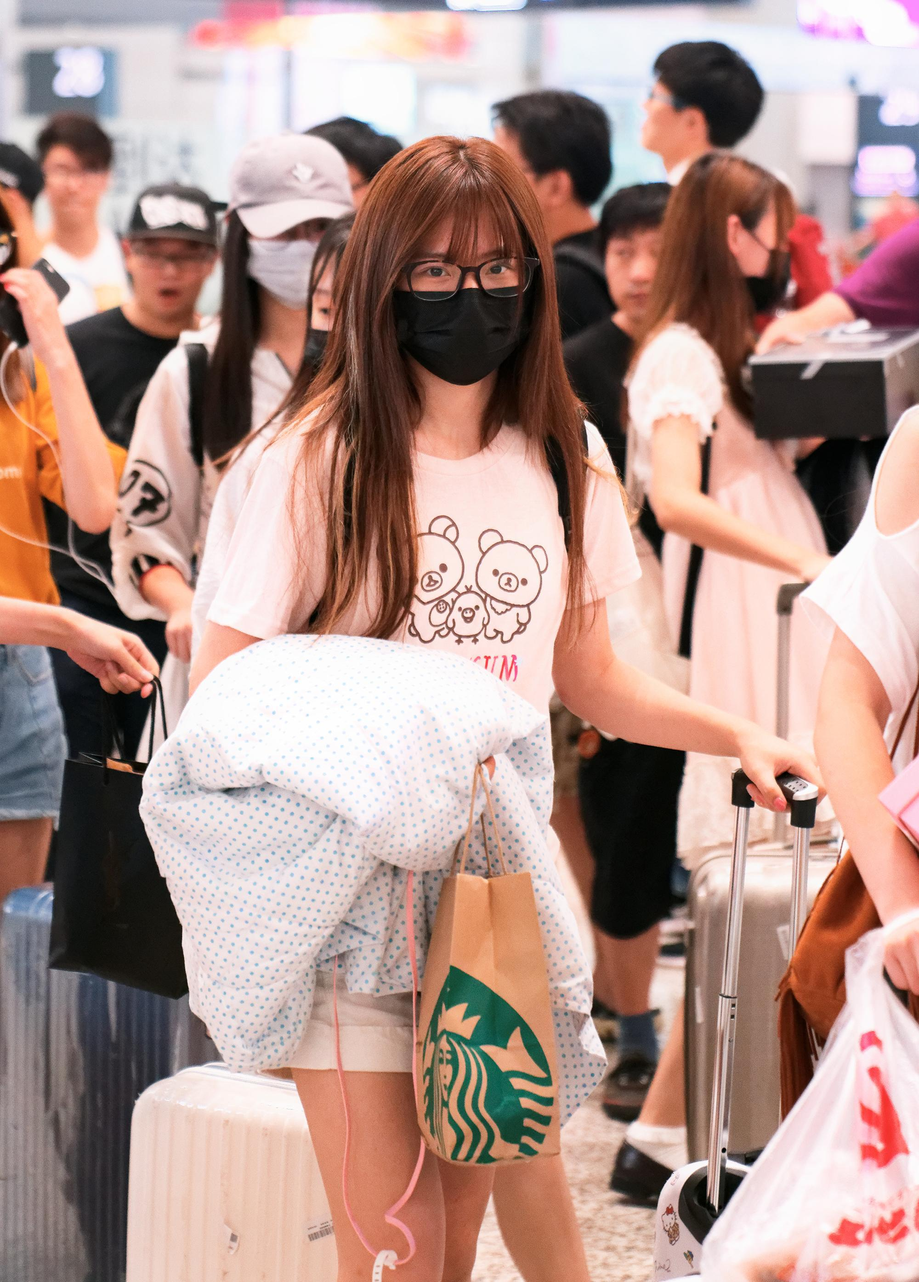NONE: (127, 235, 209, 308), (613, 235, 677, 318), (634, 78, 703, 152), (44, 159, 104, 222)
OK: (362, 219, 529, 387), (246, 210, 345, 310), (711, 212, 794, 312)
